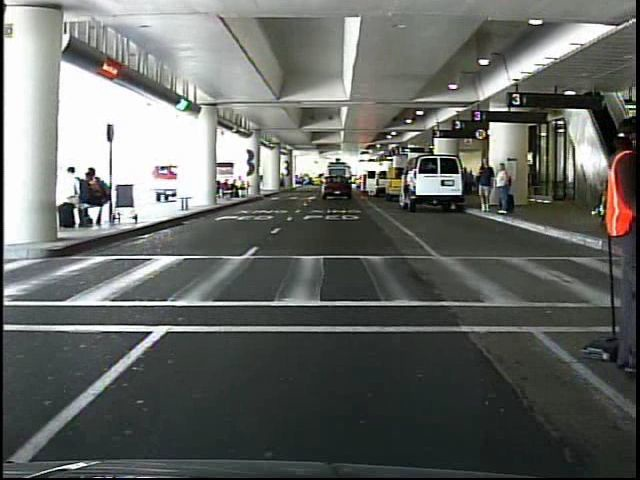person: (591, 110, 640, 379), (494, 159, 515, 220), (475, 153, 495, 217), (319, 170, 330, 194)
